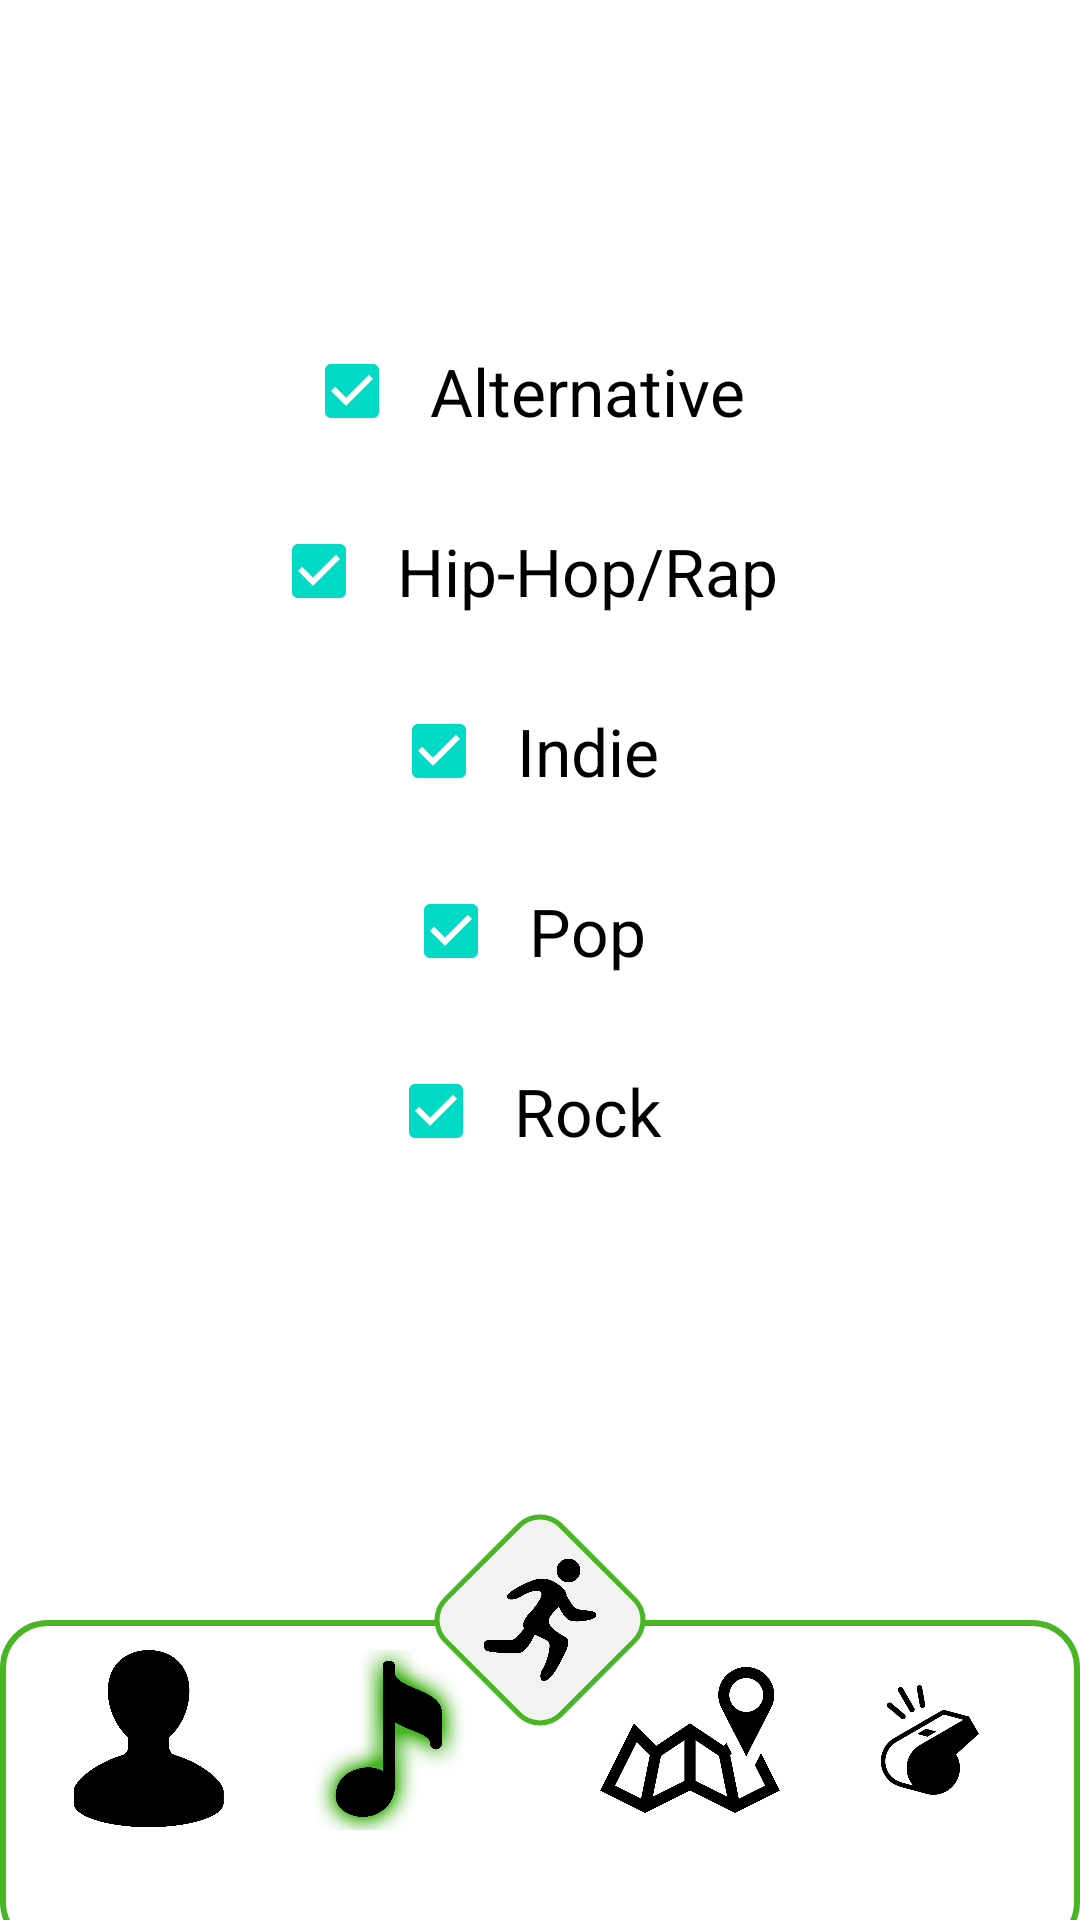

Icons on this 1080x1920 Android screen, each with its box as {"left": x1, "top": y1, "right": x2, "bottom": y2}:
human: {"left": 74, "top": 1650, "right": 224, "bottom": 1827}
map: {"left": 600, "top": 1667, "right": 780, "bottom": 1813}
note: {"left": 320, "top": 1650, "right": 459, "bottom": 1830}
sport: {"left": 420, "top": 1514, "right": 660, "bottom": 1740}
svistok: {"left": 881, "top": 1685, "right": 979, "bottom": 1795}
